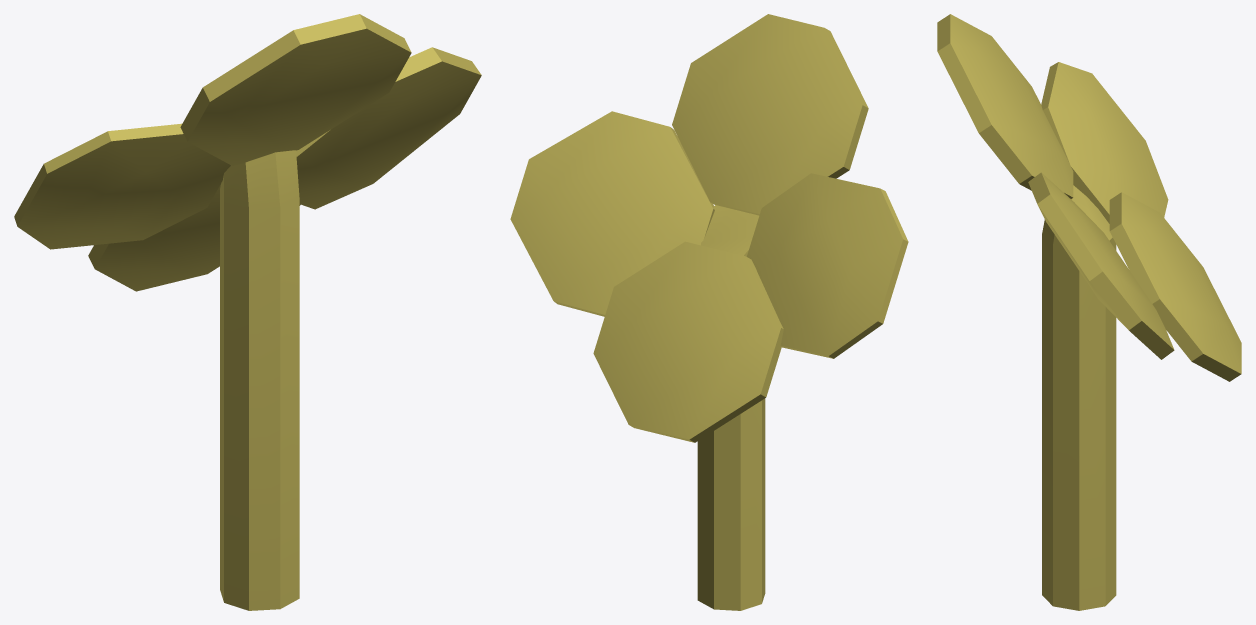
The model's file is 4leafy.fbx.
3 views of the same model, side by side, from view 1: azimuth 30°, elevation 25°; view 2: azimuth 150°, elevation 25°; view 3: azimuth 270°, elevation 25° (orthographic). The views are drawn at different scales.
Visible parts, largest first — view 1: Cylinder; view 2: Cylinder; view 3: Cylinder.
Part boxes in pixels (x1,y1,x2,y2): Cylinder: (14,14,481,610); Cylinder: (510,14,908,610); Cylinder: (937,14,1241,610).
Size of the model in its own units: 327 by 446 by 218.
